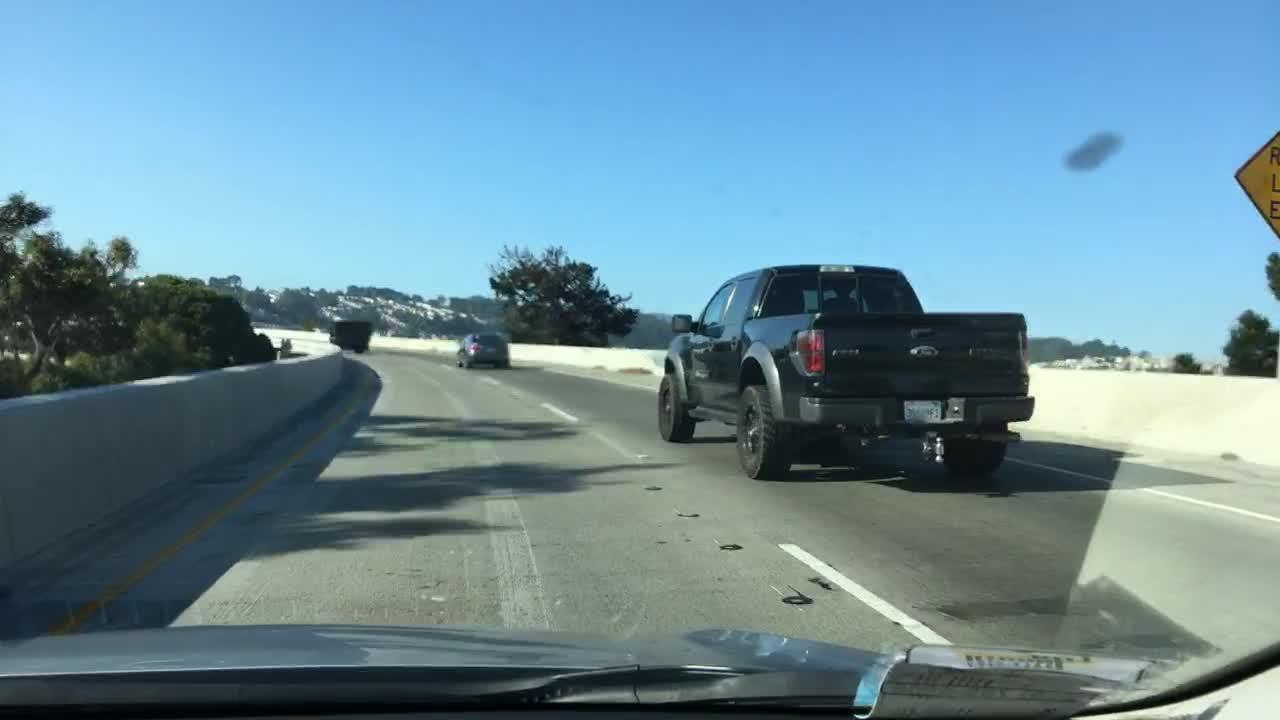ford: (905, 339, 947, 370)
